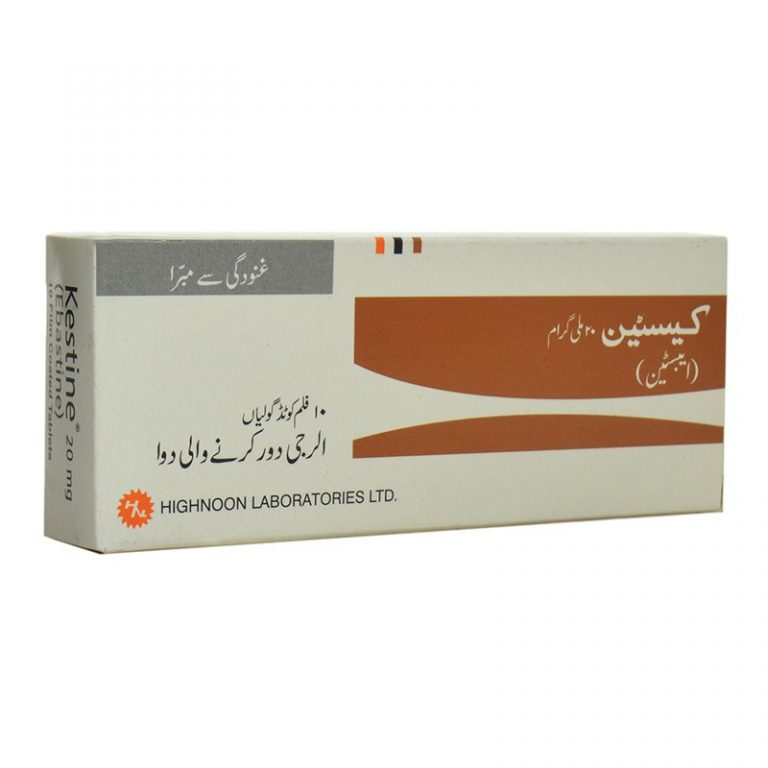Medicine: (38, 220, 732, 552)
